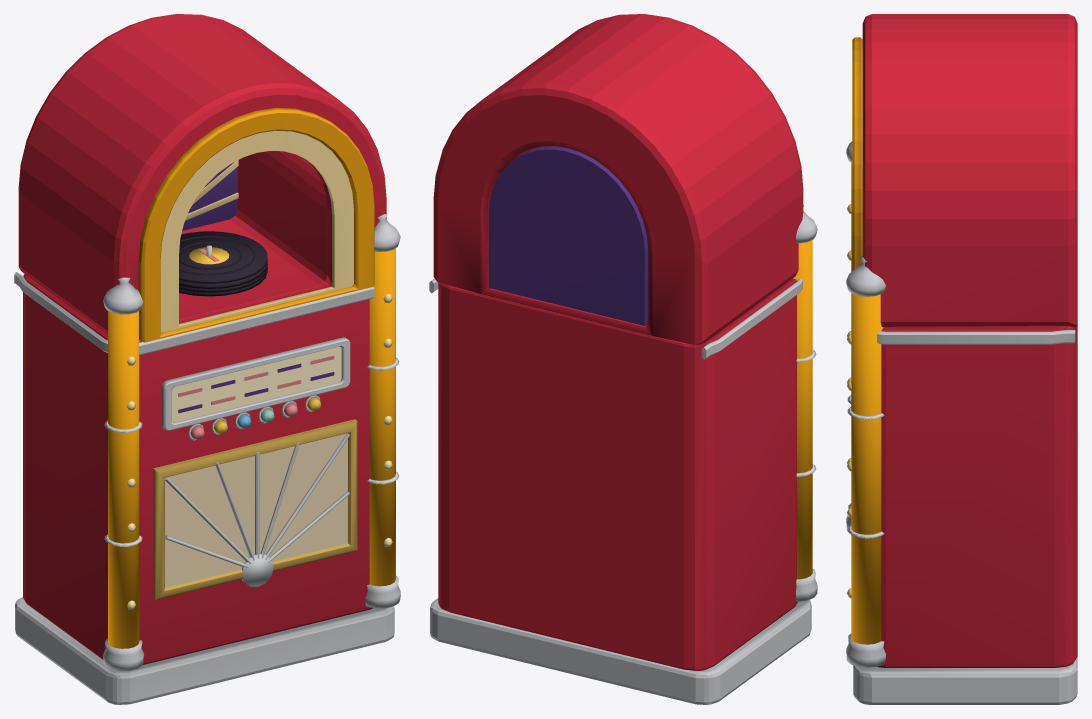
Rendered from jukebox.glb.
The picture shows the model from 3 angles, left to right: view 1: azimuth 30°, elevation 25°; view 2: azimuth 150°, elevation 25°; view 3: azimuth 270°, elevation 25°; orthographic projection. The views are drawn at different scales.
Visible parts, largest first — view 1: body, record; view 2: body; view 3: body.
Part boxes in pixels (<box>): body: <box>14,14,400,704</box>; record: <box>179,231,267,283</box>; body: <box>429,14,817,704</box>; body: <box>846,14,1077,704</box>.
Bounding box in the file's own units: 0.752 × 1.43 × 0.4948.
